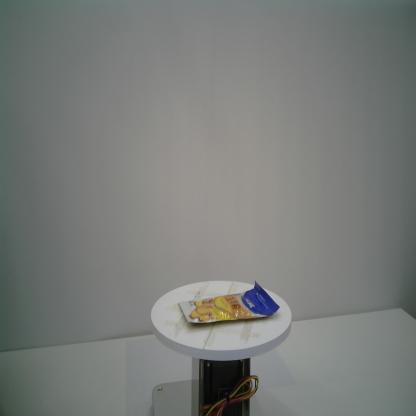Seasoner: (178, 280, 280, 323)
